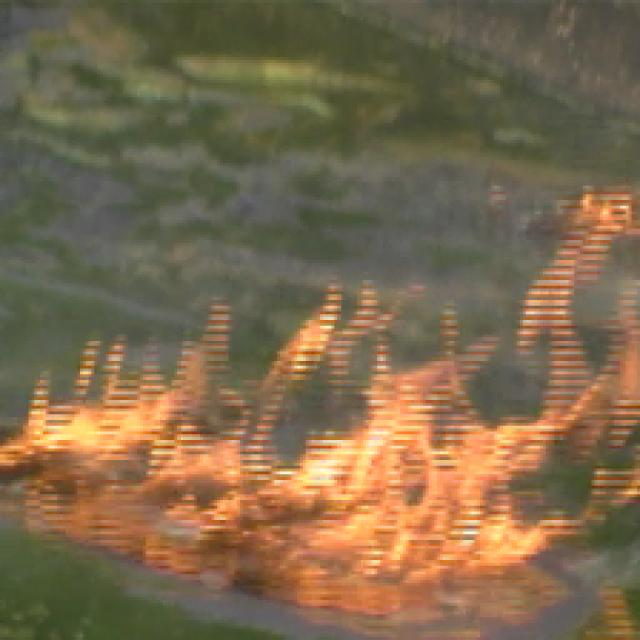fire: (78, 375, 555, 579)
